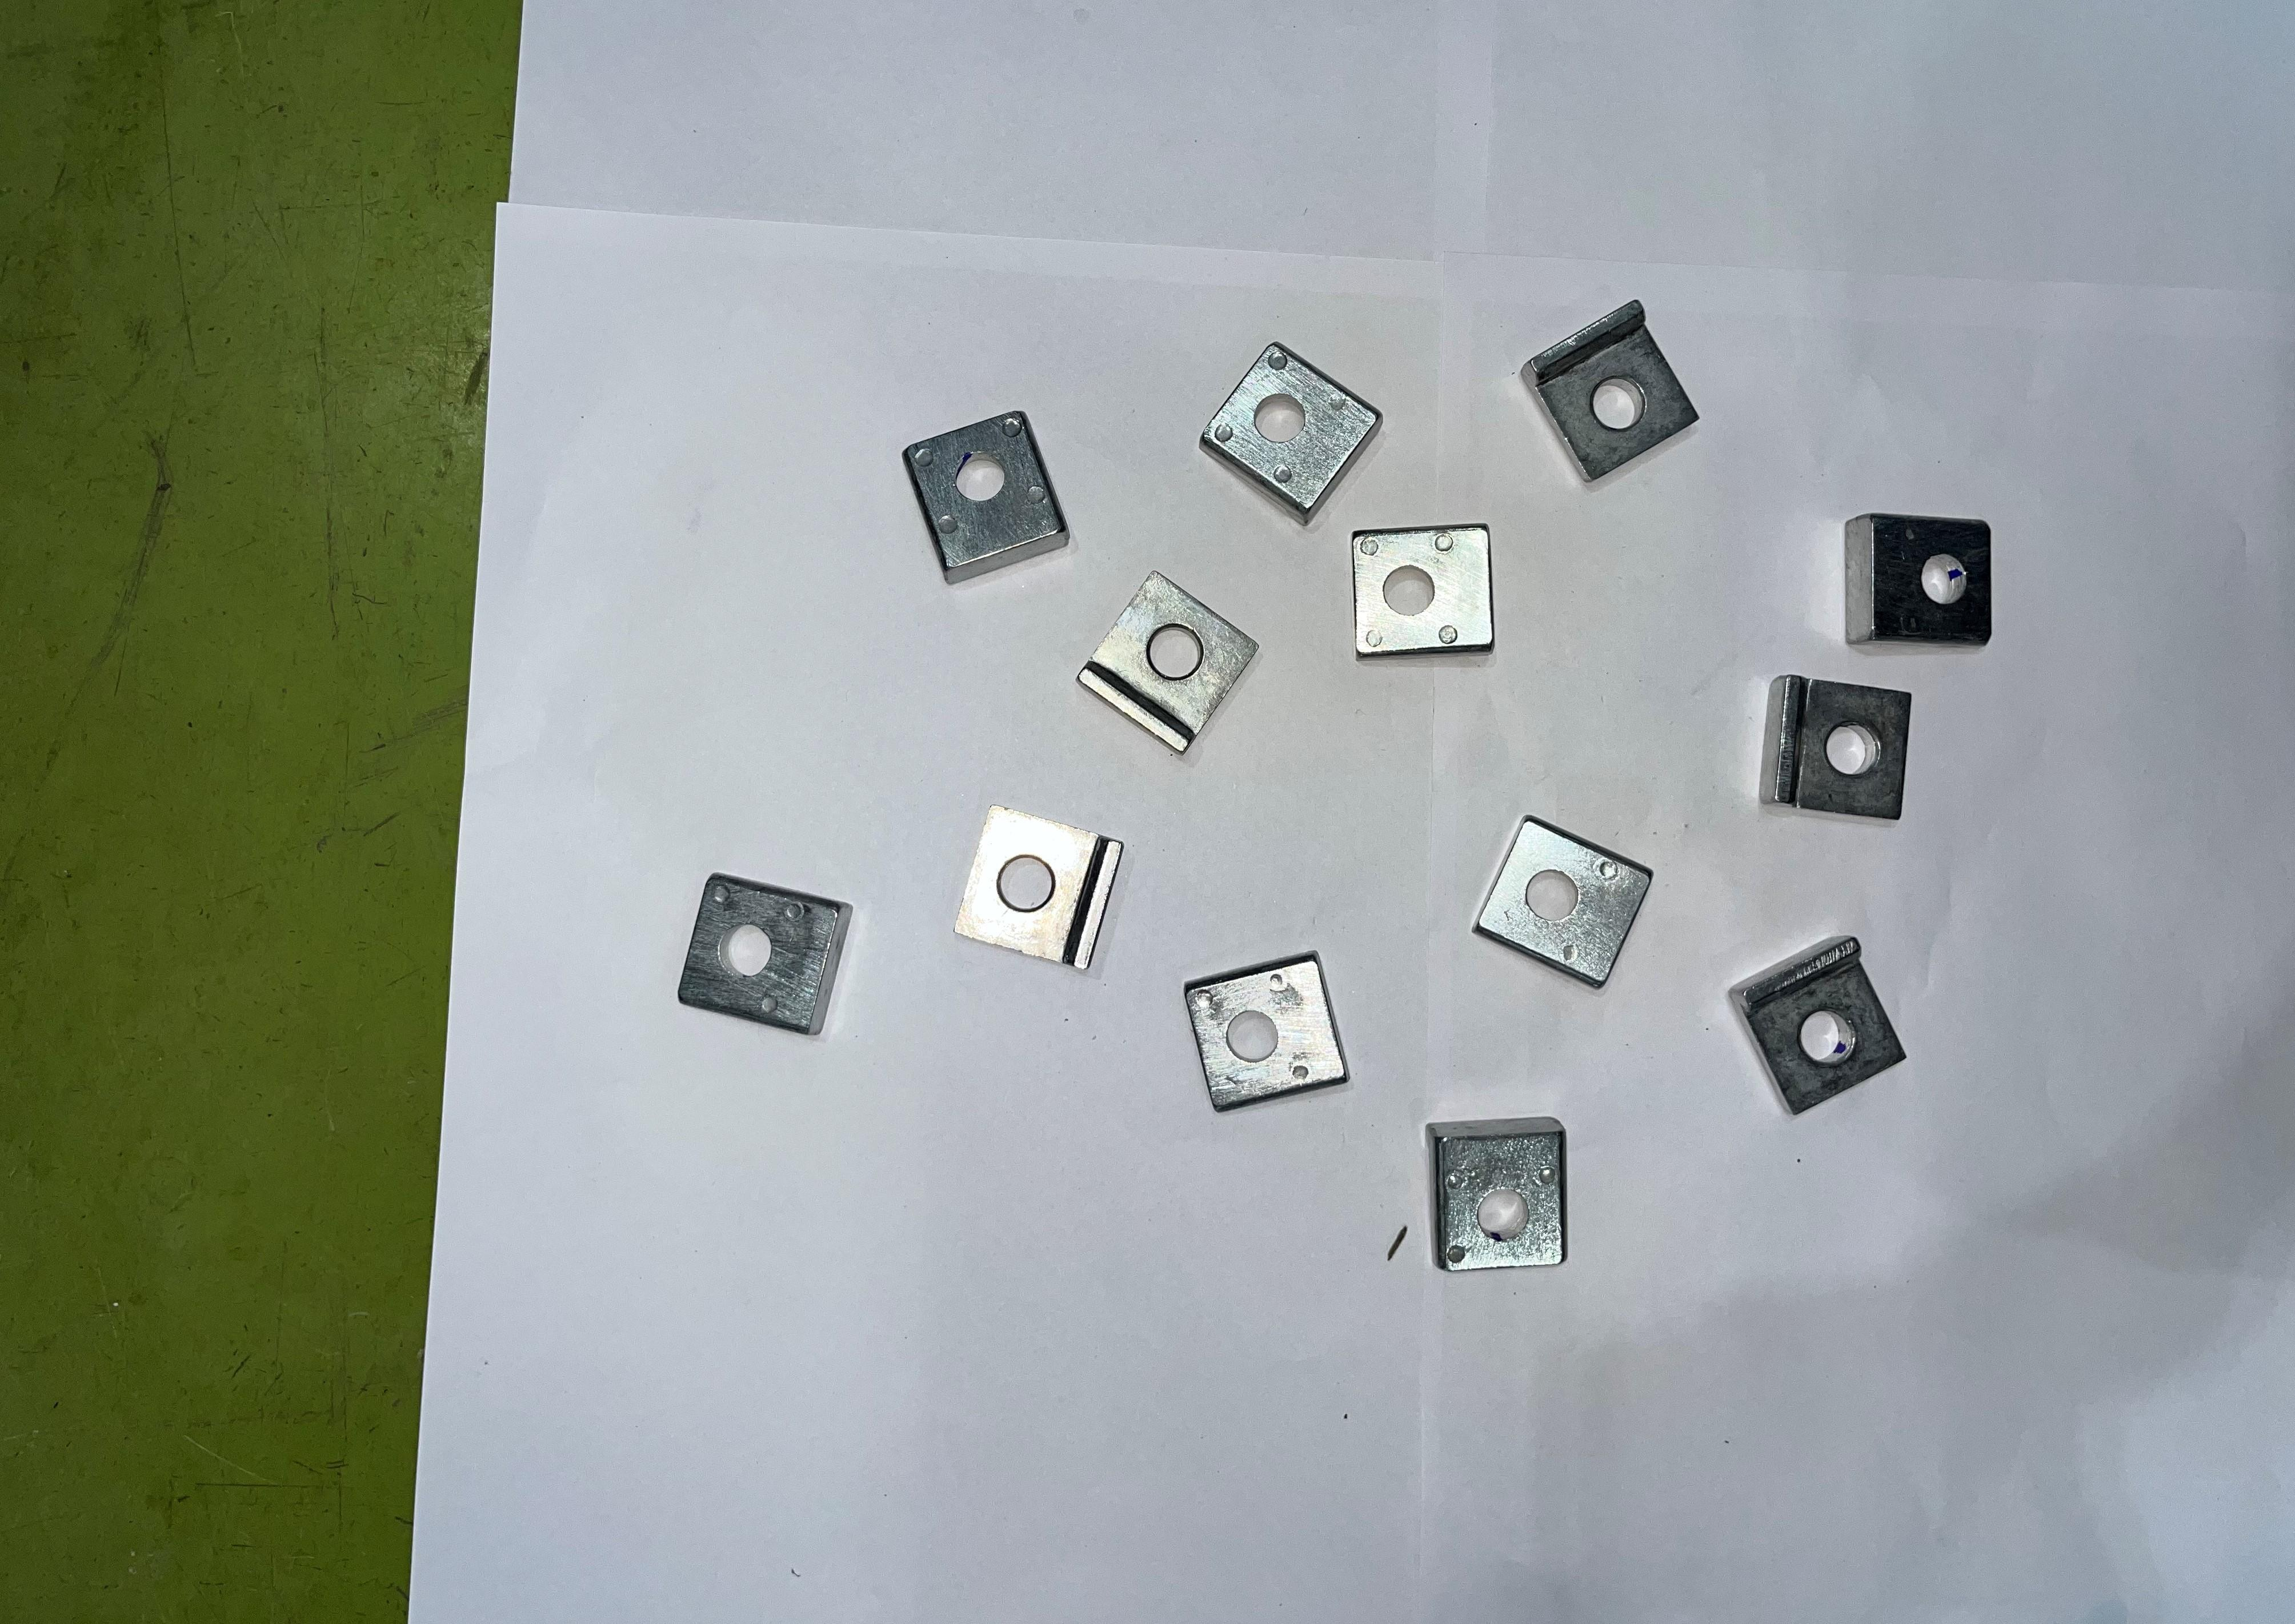Type A: (1195, 341, 1381, 526), (1075, 571, 1256, 758), (1520, 301, 1699, 482), (1727, 933, 1901, 1114), (1473, 814, 1650, 990), (900, 408, 1074, 584), (952, 803, 1130, 974), (677, 872, 852, 1037), (1184, 951, 1348, 1111), (1759, 675, 1919, 819), (1423, 1113, 1566, 1274), (1355, 515, 1494, 663), (1843, 517, 1995, 643)
